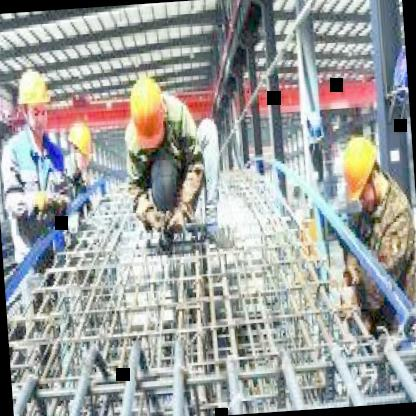helmet: (336, 131, 388, 214), (123, 70, 171, 156), (15, 63, 53, 138), (64, 115, 96, 179)
